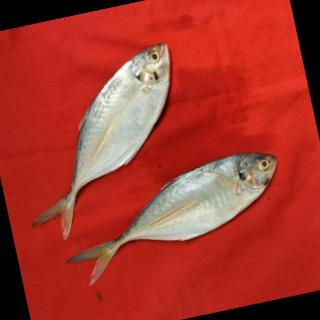Ikan: (1, 14, 320, 309)
